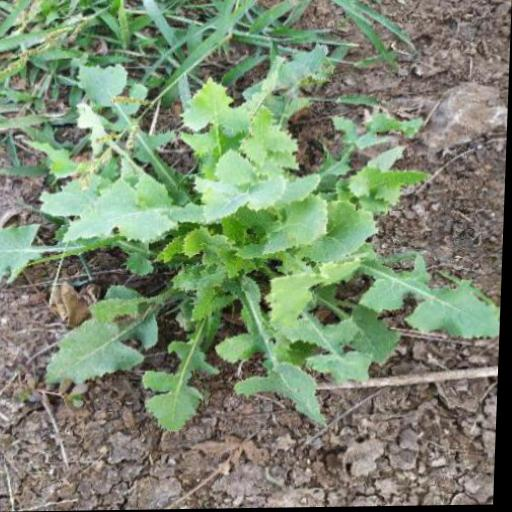weed: (0, 61, 507, 435)
